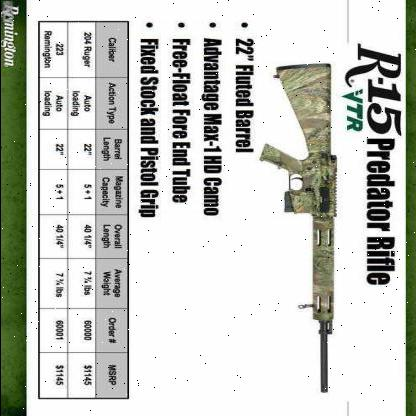rifle: (253, 55, 349, 402)
